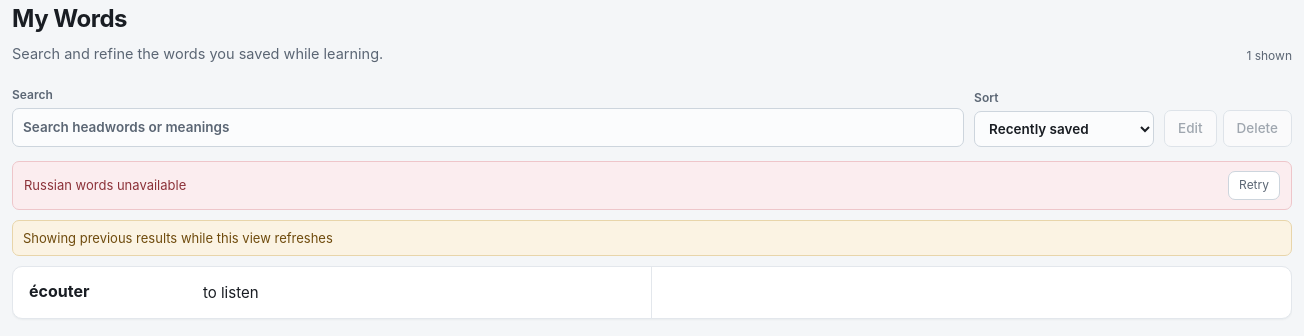
Test: VocabularyPage › labels retained rows stale after a language failure and restores actions after retry
Expected: the message "Russian words unavailable Retry" is shown, [12,161,1292,210]
Expected: the heading "écouter" is shown, [29,281,90,301]
Click the button "Retry" at (1254, 186), box [1228,171,1280,200]
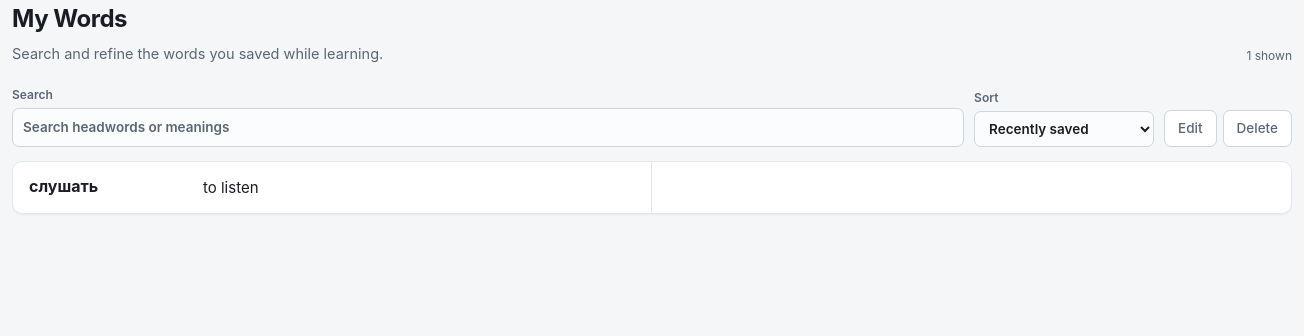
Now the heading "слушать" is shown, box [29,176,98,196]
Now the link "écouter" is gone
Now the text "Showing previous results while this view refreshes" is gone
